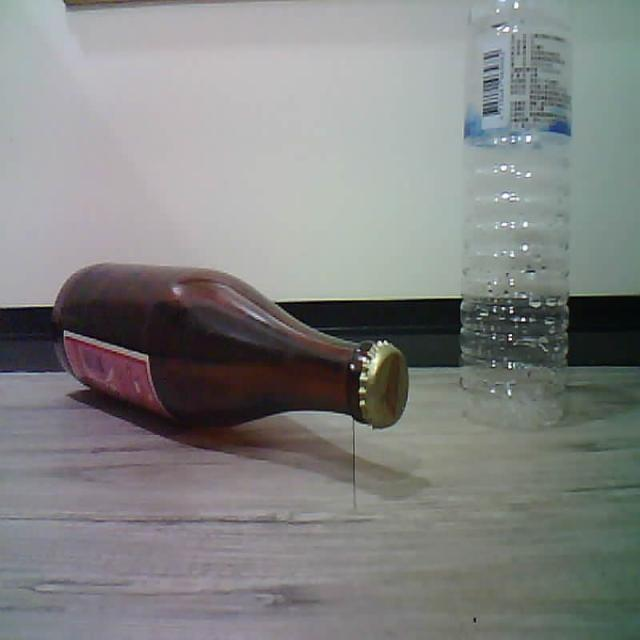bottle: (52, 265, 407, 428), (460, 0, 572, 425)
